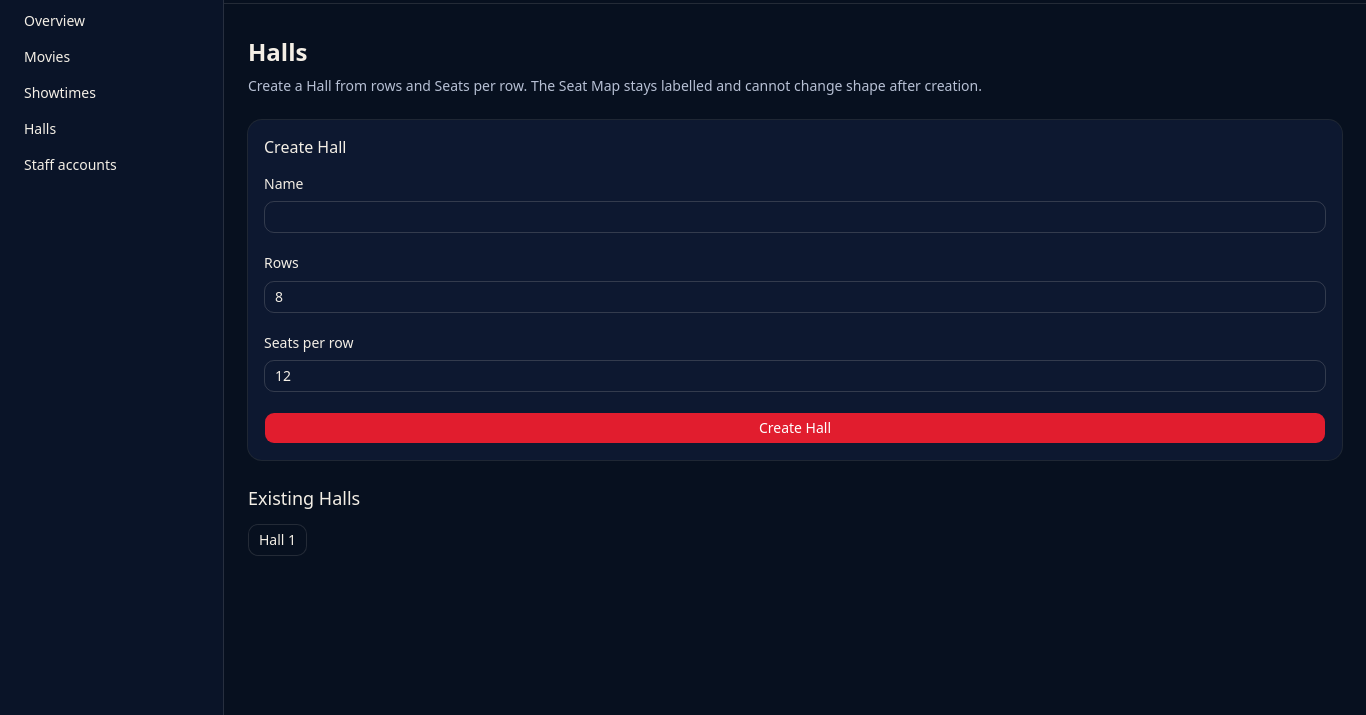
Scenario: HallsPage › keeps the first Seat update when a second toggle is still in flight
Click the button "Hall 1" at (278, 540), box top-left (248, 524), bottom-right (307, 556)
(page scrolled)
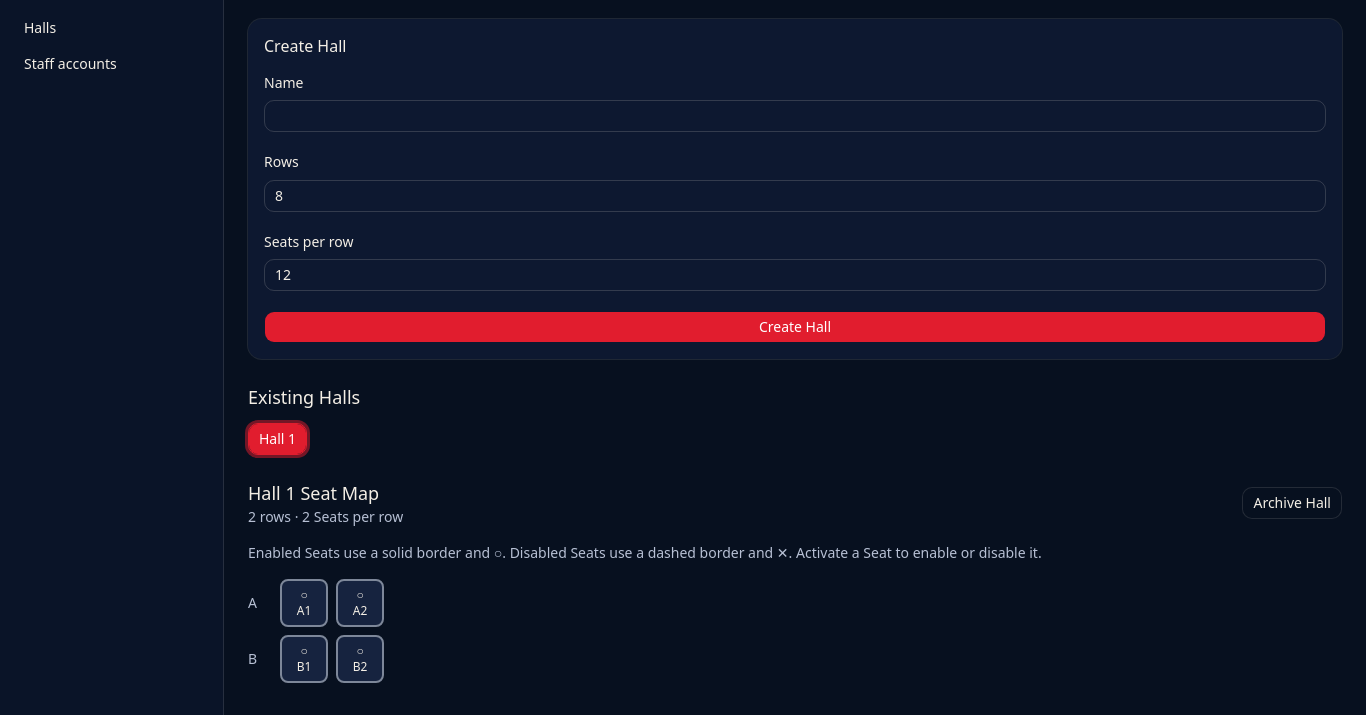
Click the button named "Seat A1, enabled" at (304, 603), box top-left (280, 579), bottom-right (328, 627)
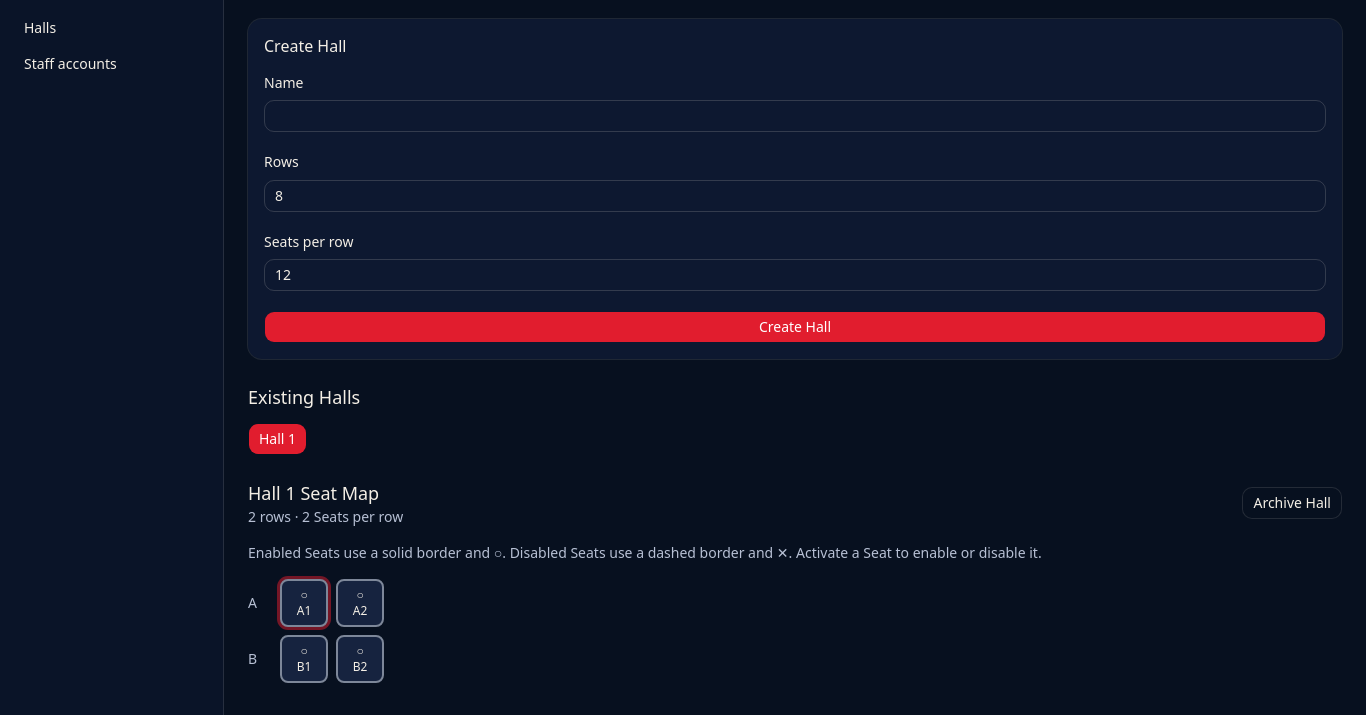
Click the button named "Seat A2, enabled" at (360, 603), box top-left (336, 579), bottom-right (384, 627)
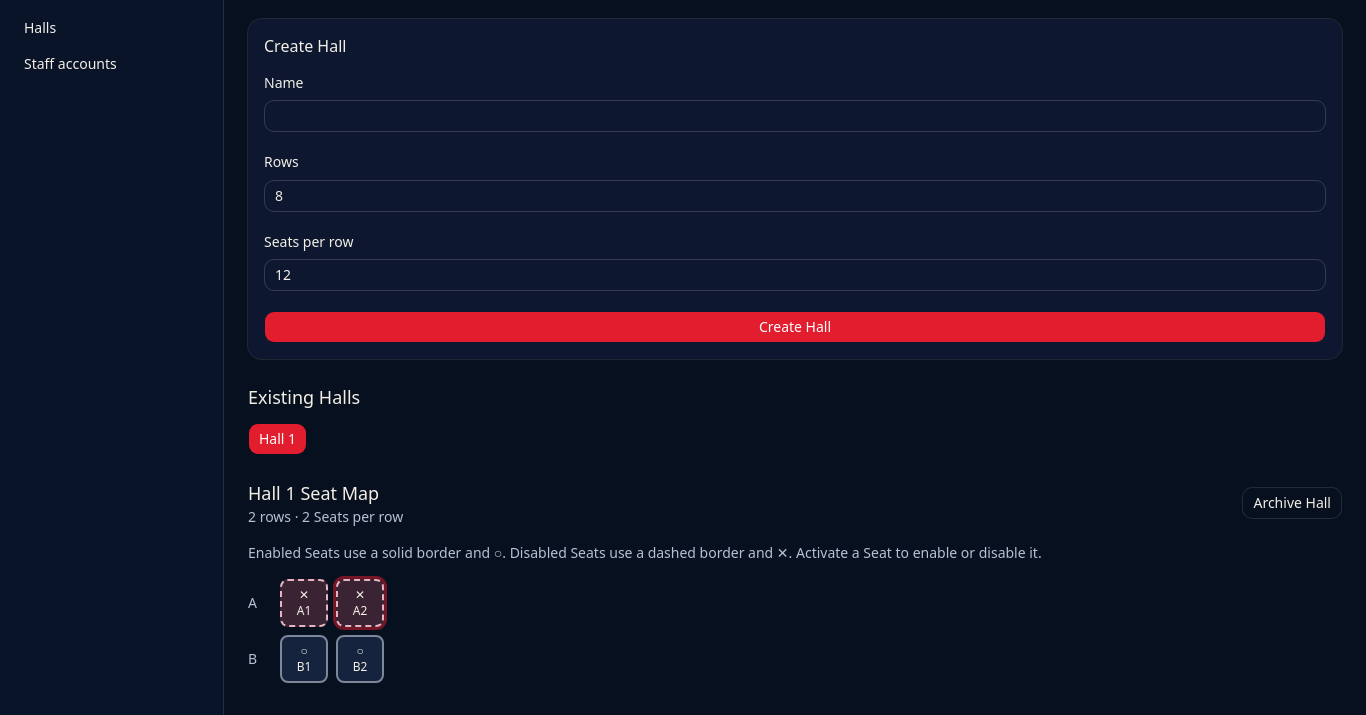
Check: the button named "Seat A2, disabled" is shown, box top-left (336, 579), bottom-right (384, 627)
Check: the button named "Seat A1, disabled" is shown, box top-left (280, 579), bottom-right (328, 627)
